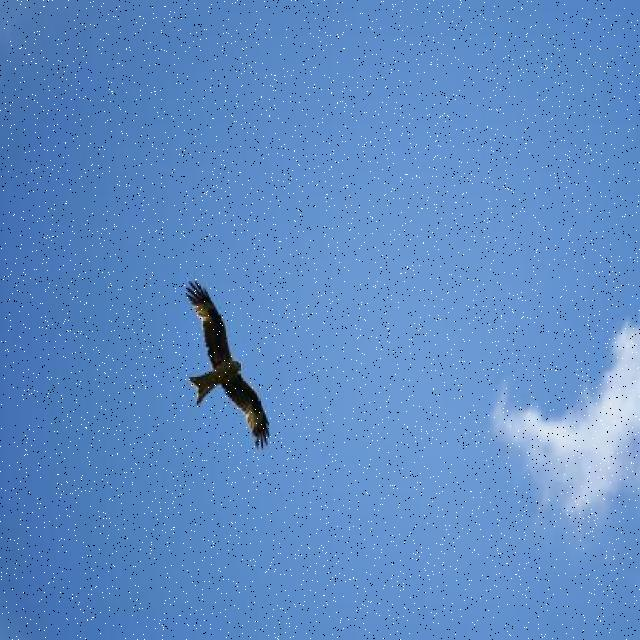bird: (186, 278, 272, 451)
